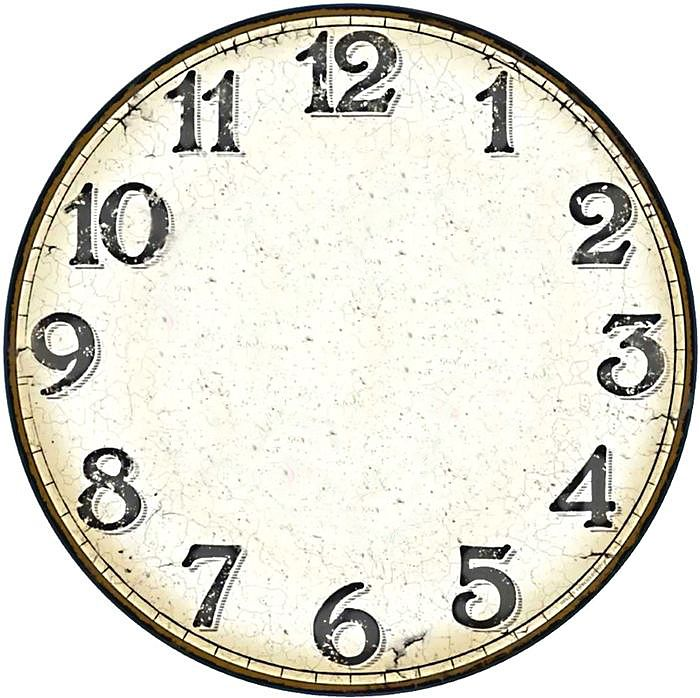clock: (9, 2, 700, 698)
